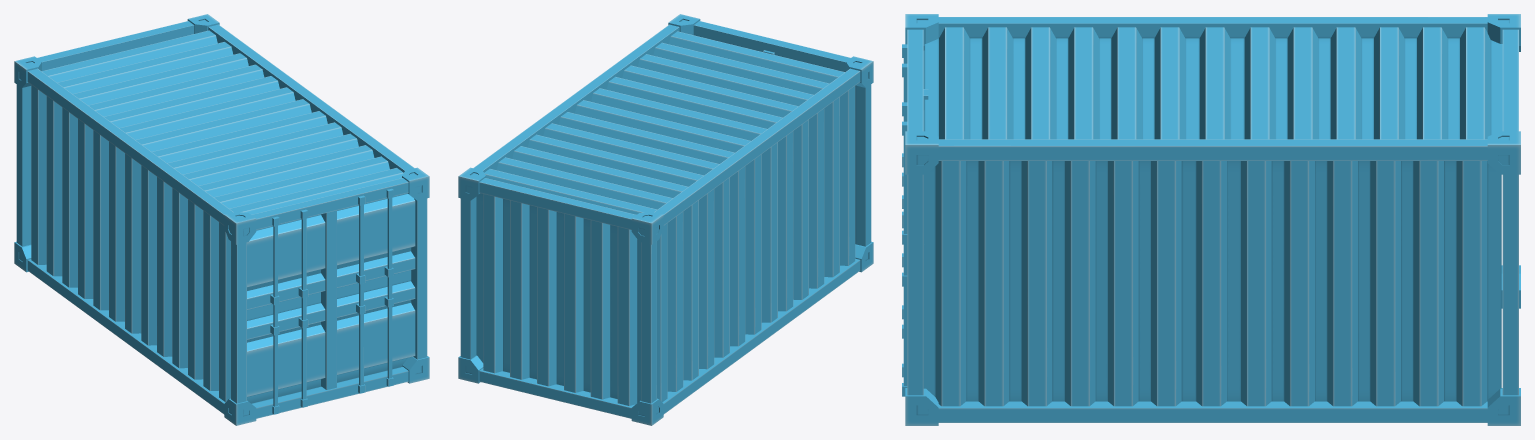
The model's file is jzx3.glb.
3 views of the same model, side by side, from view 1: azimuth 30°, elevation 25°; view 2: azimuth 150°, elevation 25°; view 3: azimuth 270°, elevation 25° (orthographic). The views are drawn at different scales.
Visible parts, largest first — view 1: container.001; view 2: container.001; view 3: container.001.
Part boxes in pixels (bbox=[...]): container.001: bbox=[14, 14, 429, 425]; container.001: bbox=[458, 14, 873, 425]; container.001: bbox=[902, 14, 1520, 425].
Bounding box in the file's own units: 2.03 × 2.03 × 4.05.
1 material, 1 textured.
